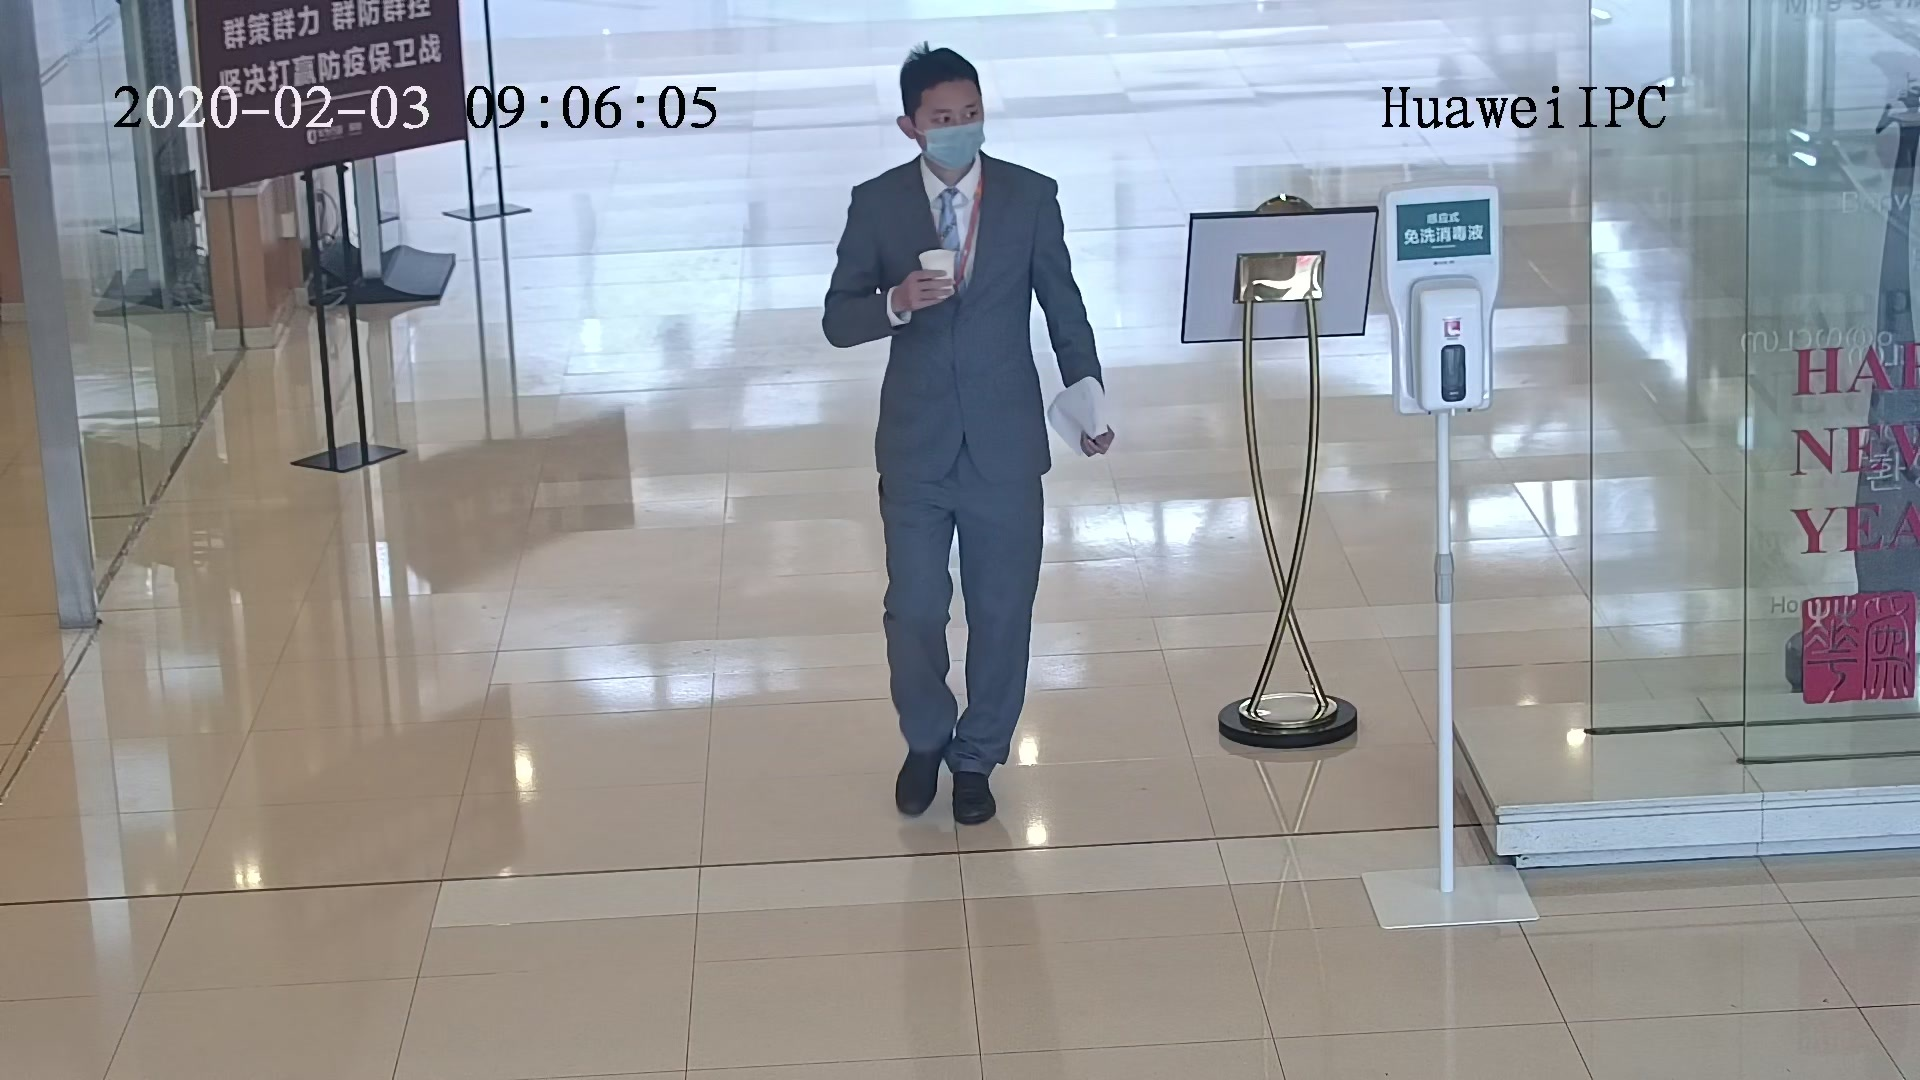face: (910, 90, 990, 171)
mask: (924, 120, 990, 168)
person: (843, 44, 1059, 236)
